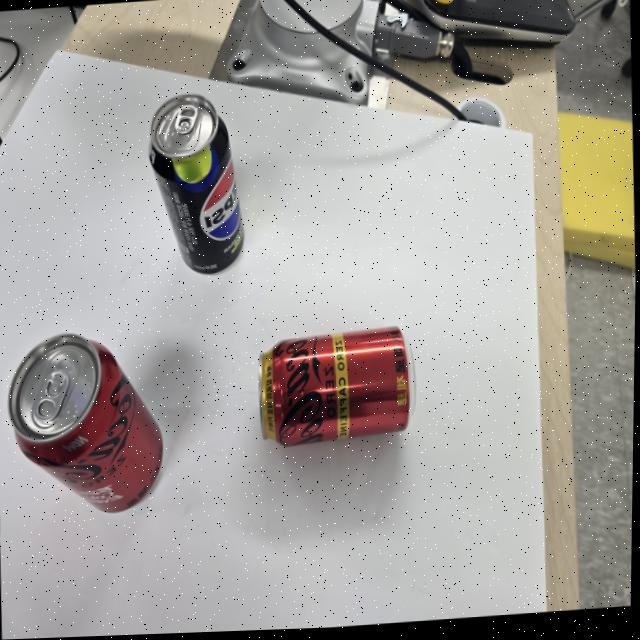can_coke_decaf: (256, 320, 419, 451)
can_coke_zero: (6, 331, 163, 516)
can_pepsi_zero: (145, 93, 246, 274)
